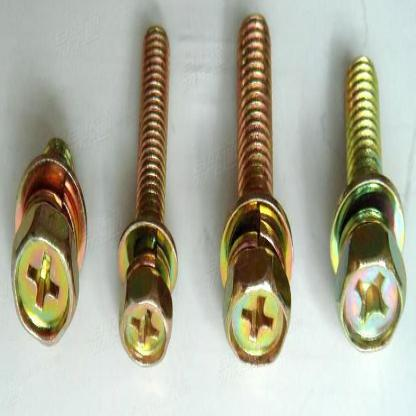FOD: (217, 13, 297, 368), (326, 54, 410, 353), (113, 27, 182, 370)
